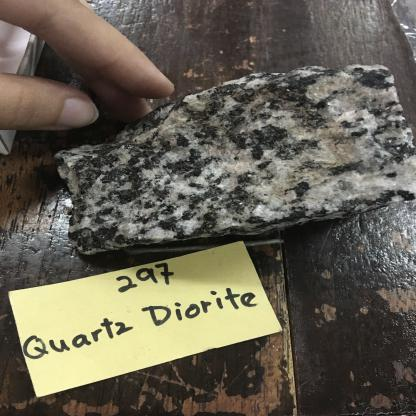Igneous_Diorite: (55, 53, 415, 260)
